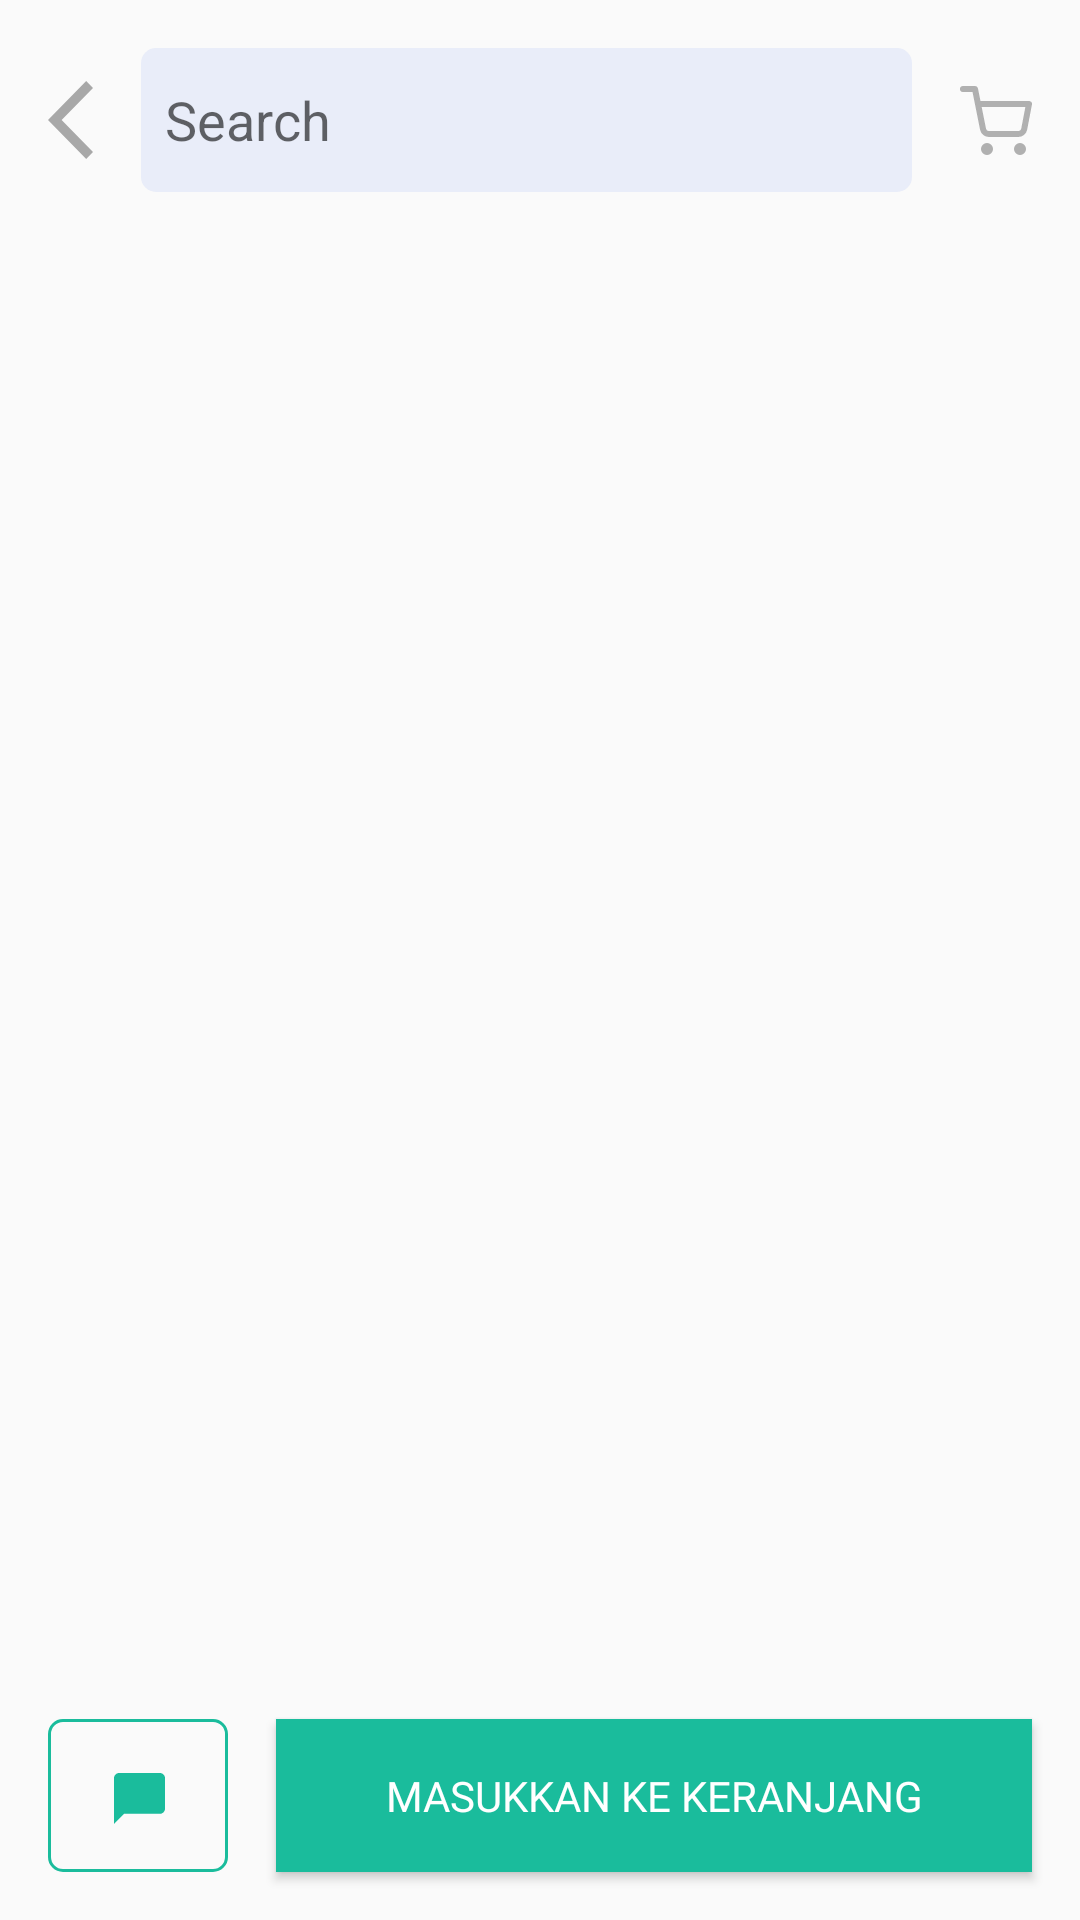

Where icons sit on this 1080×1920 app screen, as (x1, y1, x2, y2):
back: (48, 81, 93, 159)
cart ikon: (960, 86, 1032, 155)
detail chat: (48, 1719, 228, 1872)
